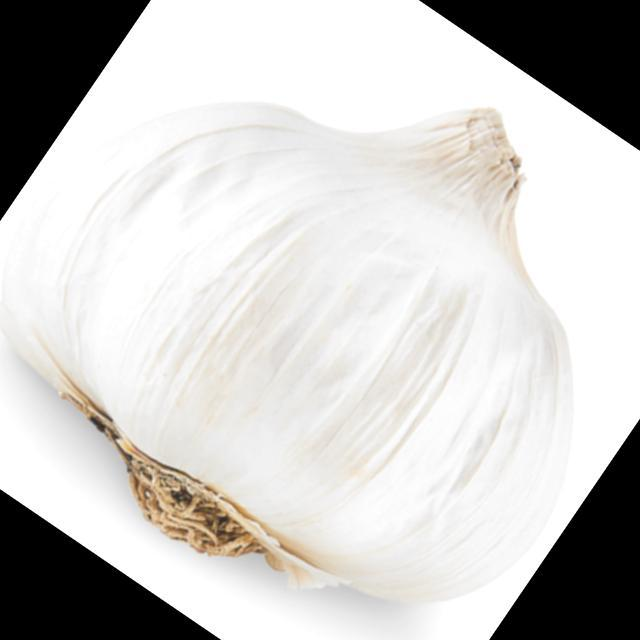garlic: (5, 104, 571, 598)
